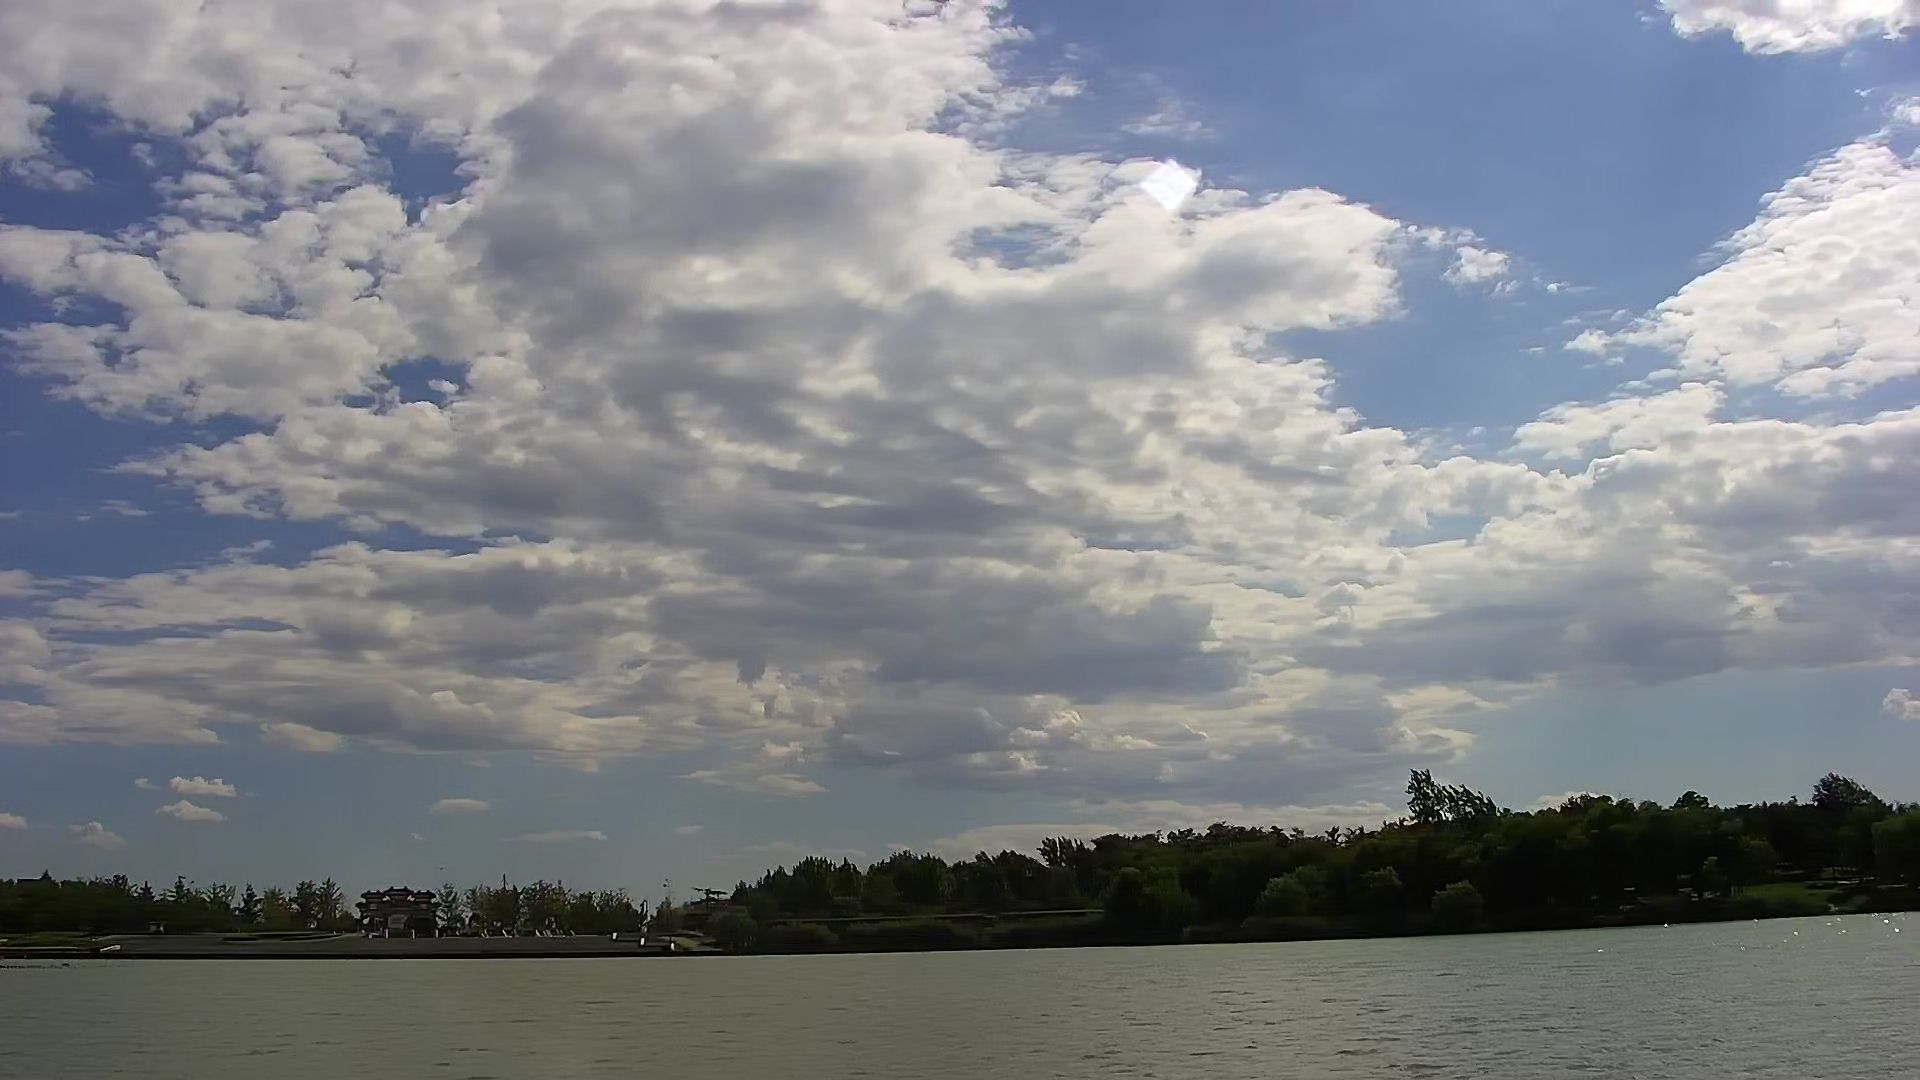harbor: (112, 926, 746, 967)
